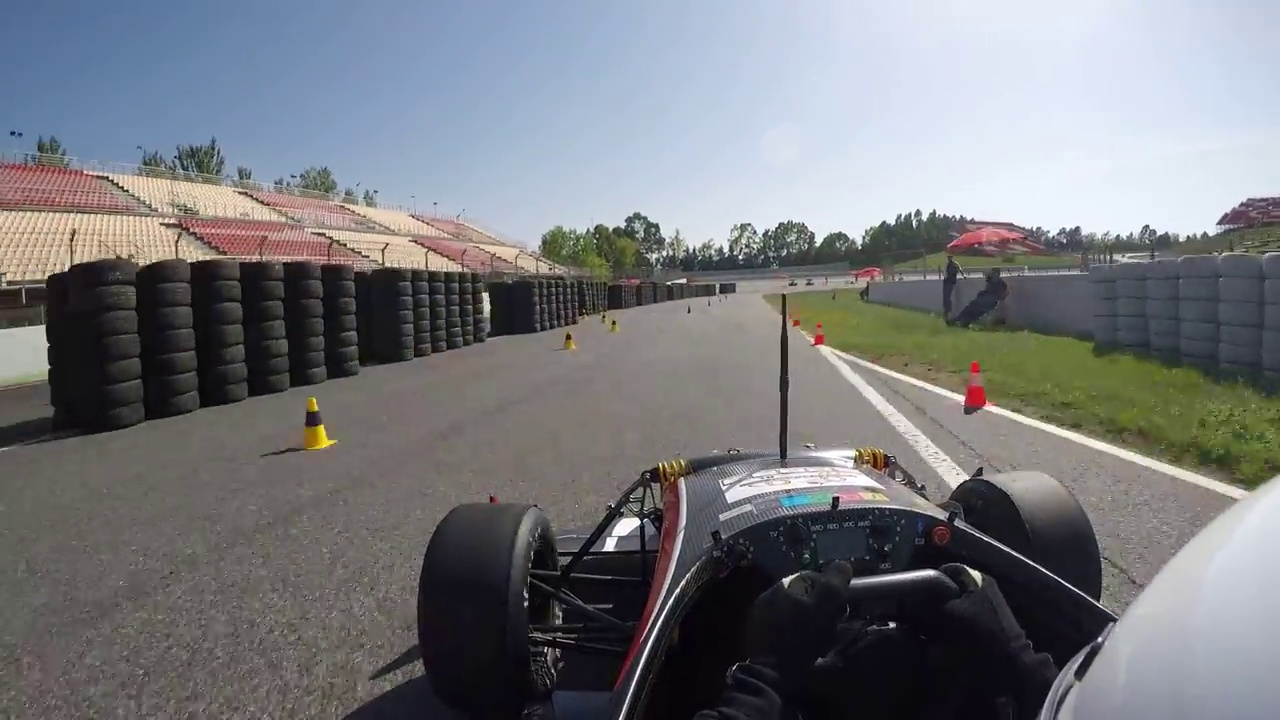Cone: (298, 395, 335, 453), (961, 358, 989, 411)
